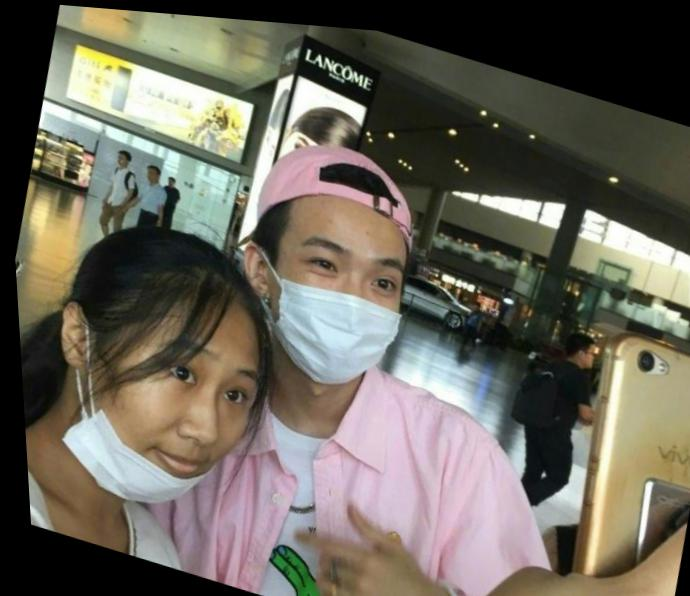OK: (248, 203, 419, 402)
WRONG: (62, 293, 271, 529)
